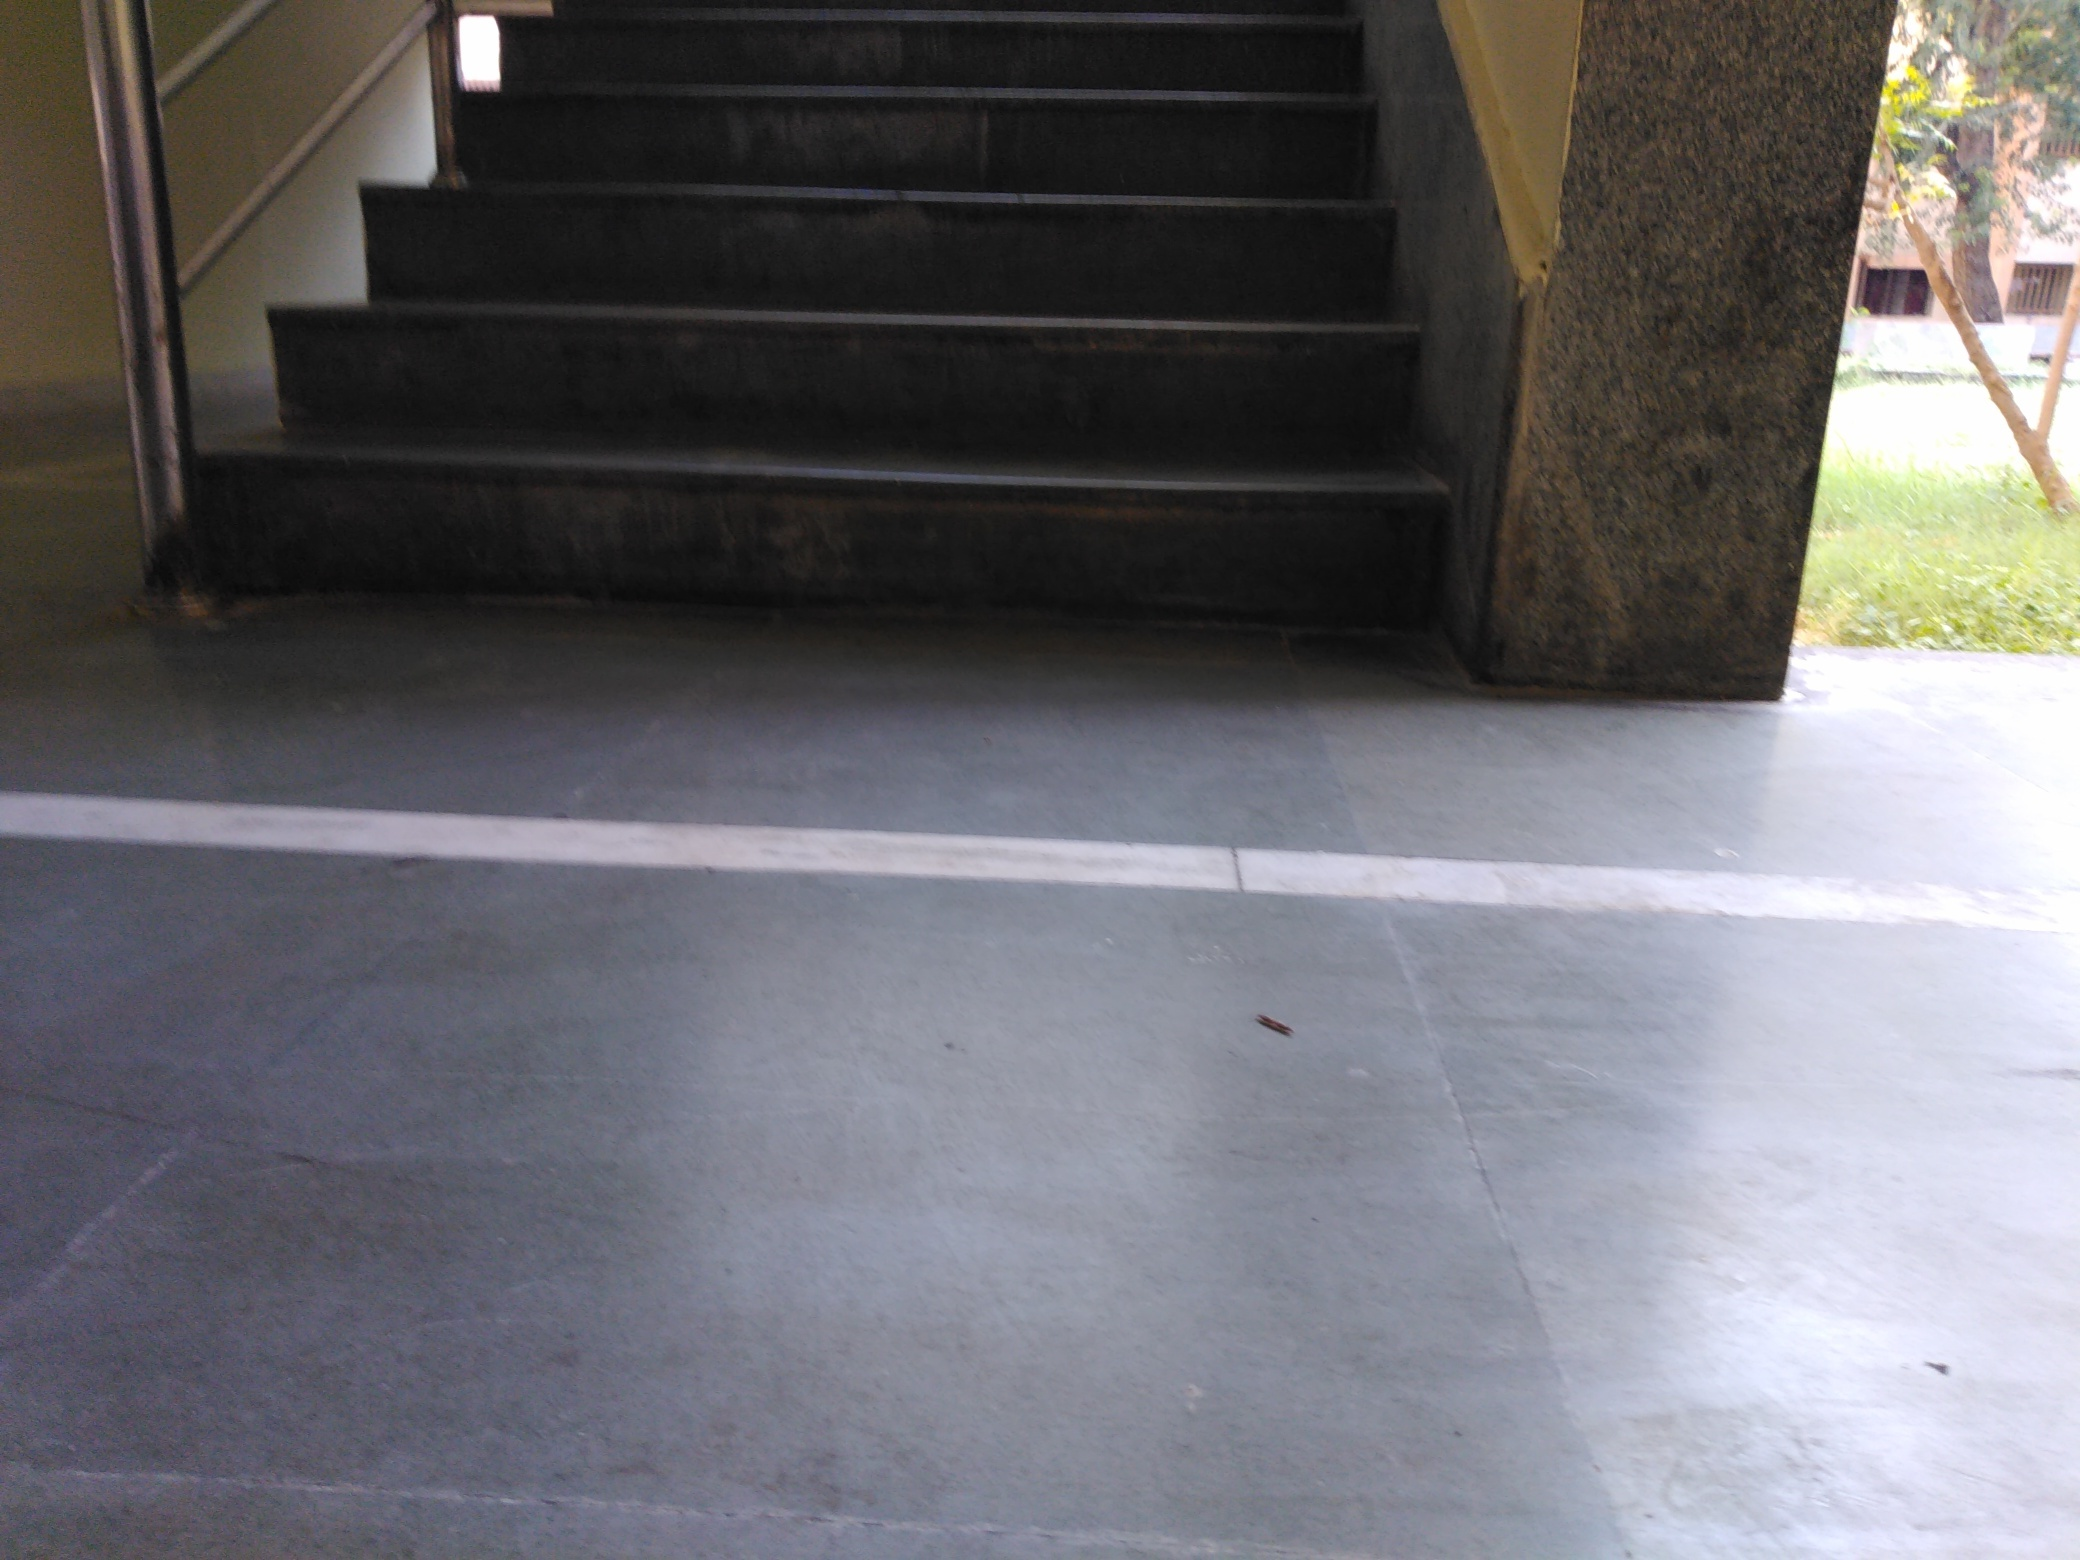stairs_up: (223, 21, 1487, 639)
